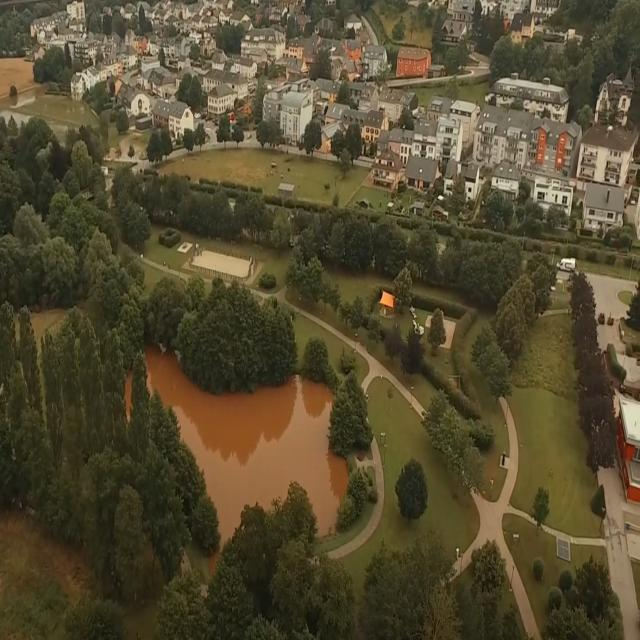flood: (146, 347, 348, 542), (588, 273, 637, 352)
house: (478, 107, 580, 170), (576, 120, 638, 190), (489, 72, 573, 122), (396, 139, 442, 192), (580, 181, 628, 231), (150, 95, 194, 147), (274, 88, 312, 148), (618, 398, 640, 498), (72, 55, 120, 99), (594, 76, 636, 120), (242, 28, 286, 66), (204, 76, 239, 120), (489, 156, 522, 195), (534, 175, 574, 207), (395, 46, 433, 78), (148, 64, 179, 100), (438, 114, 463, 158), (32, 14, 68, 44), (386, 89, 419, 120), (361, 110, 387, 149), (128, 87, 154, 124), (455, 100, 480, 136), (372, 151, 398, 185), (324, 99, 352, 130), (366, 42, 386, 80), (351, 80, 380, 106), (123, 31, 150, 57), (158, 35, 188, 57), (440, 19, 466, 44), (453, 0, 481, 22), (230, 58, 258, 78), (318, 79, 339, 104), (288, 39, 310, 62), (199, 34, 219, 57), (501, 1, 528, 18), (66, 0, 86, 21), (194, 8, 217, 26), (345, 14, 364, 32), (346, 39, 361, 61)
